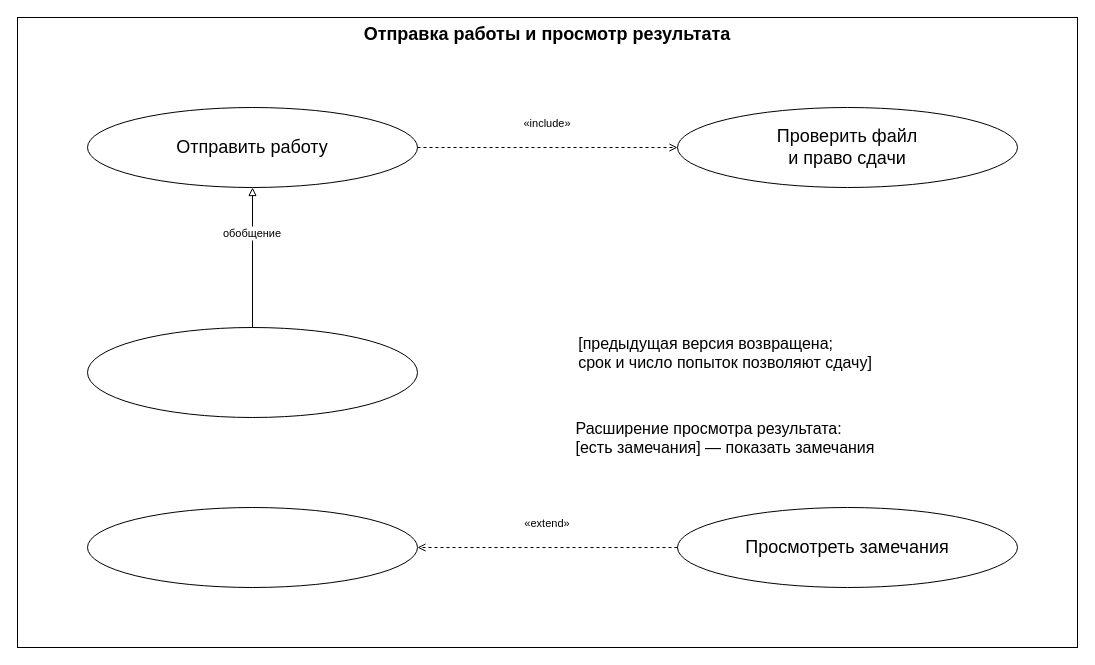
Image size: 1095x665. Some labels were removed from this diagram. Here are the shapes that lost their labels. From the top down, the centre of each, then its label:
At (252,372): "Отправить исправленную версию".
At (252,547): "Просмотреть результат".
